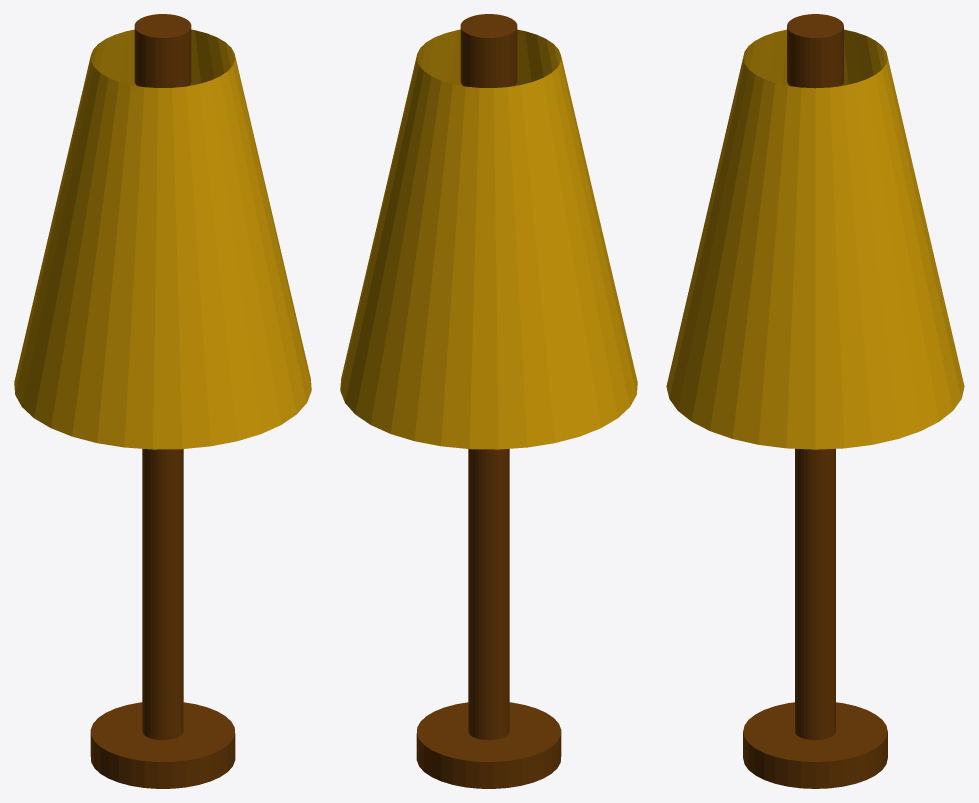
Rendered from Lampara.fbx.
3 views of the same model, side by side, from view 1: azimuth 30°, elevation 25°; view 2: azimuth 150°, elevation 25°; view 3: azimuth 270°, elevation 25° (orthographic).
Parts seen in each view (by area): view 1: Cylinder.001, Cylinder; view 2: Cylinder.001, Cylinder; view 3: Cylinder.001, Cylinder.
Boxes of the visible parts, x1=… form: Cylinder.001: x1=14, y1=29, x2=311, y2=449; Cylinder: x1=90, y1=14, x2=235, y2=788; Cylinder.001: x1=340, y1=29, x2=637, y2=449; Cylinder: x1=416, y1=14, x2=561, y2=788; Cylinder.001: x1=666, y1=29, x2=964, y2=449; Cylinder: x1=743, y1=14, x2=887, y2=788.
Bounding box in the file's own units: 412 × 1117 × 412.
